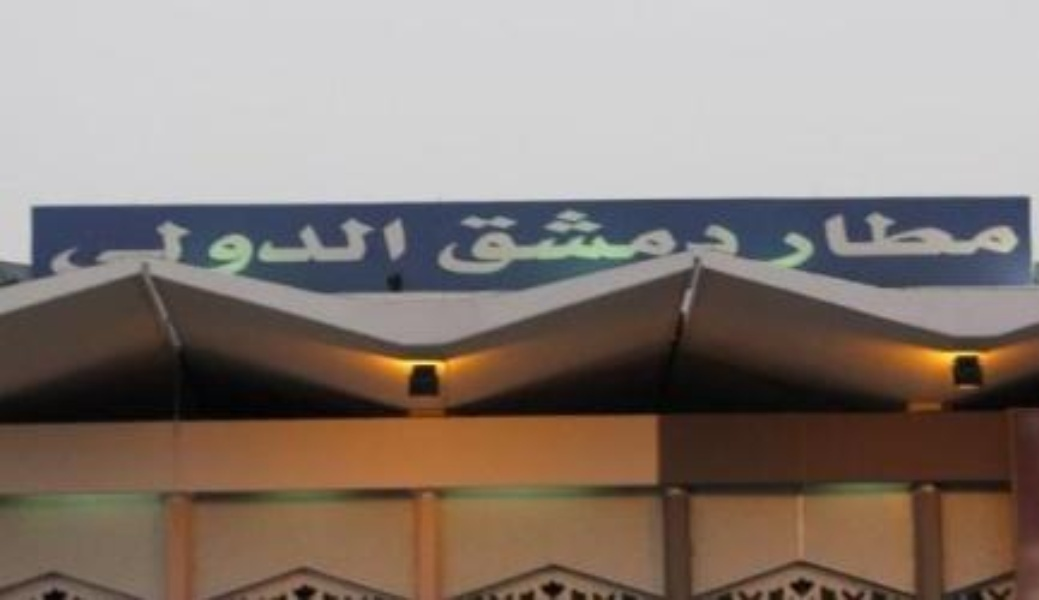text: (449, 207, 464, 284), (465, 207, 480, 284), (481, 207, 496, 284), (497, 207, 512, 284), (513, 207, 528, 284), (529, 207, 544, 284), (545, 207, 560, 284), (561, 207, 576, 284), (577, 207, 592, 284), (593, 207, 608, 284), (609, 207, 624, 284), (625, 207, 640, 284), (641, 207, 656, 284), (657, 207, 672, 284), (673, 207, 688, 284), (689, 207, 704, 284), (705, 207, 720, 284), (721, 207, 736, 284), (65, 209, 80, 284), (81, 209, 96, 284), (97, 209, 112, 284), (113, 209, 128, 284), (129, 209, 144, 284), (145, 209, 160, 284), (161, 209, 176, 284), (177, 209, 192, 284), (193, 209, 208, 284), (209, 209, 224, 284), (225, 209, 240, 284), (241, 209, 256, 284), (257, 209, 272, 284), (273, 209, 288, 284), (289, 209, 304, 284), (305, 209, 320, 284), (321, 209, 336, 284), (337, 209, 352, 284), (353, 209, 368, 284), (369, 209, 384, 284), (385, 209, 400, 284), (401, 209, 416, 284), (435, 207, 448, 284), (51, 209, 64, 284), (769, 209, 784, 274), (785, 209, 800, 274), (801, 209, 816, 274), (817, 209, 832, 274), (833, 209, 848, 274), (849, 209, 864, 274), (865, 209, 880, 274), (881, 209, 896, 274), (897, 209, 912, 274), (913, 209, 928, 274), (929, 209, 944, 274), (945, 209, 960, 274), (961, 209, 976, 274), (977, 209, 992, 274), (993, 209, 1008, 274), (1009, 209, 1018, 274), (737, 207, 740, 284), (417, 209, 418, 284)
